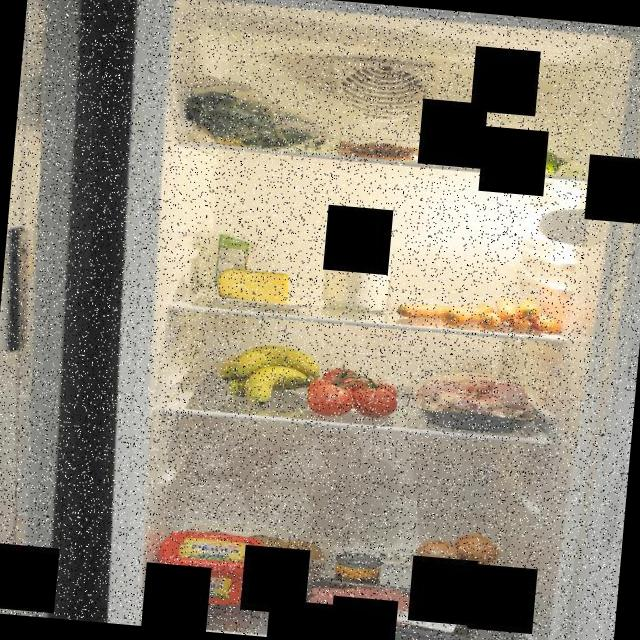Carne pollo: (408, 364, 544, 436)
Cebolla: (408, 530, 506, 598)
Gambas/Langostinos: (340, 136, 420, 164)
Mantequilla: (156, 524, 266, 612)
Patata: (242, 527, 342, 583)
Plátano: (217, 337, 326, 414)
Queso: (213, 262, 294, 308)
Tomate: (301, 358, 406, 424)
Zanahoria: (395, 287, 565, 338)
